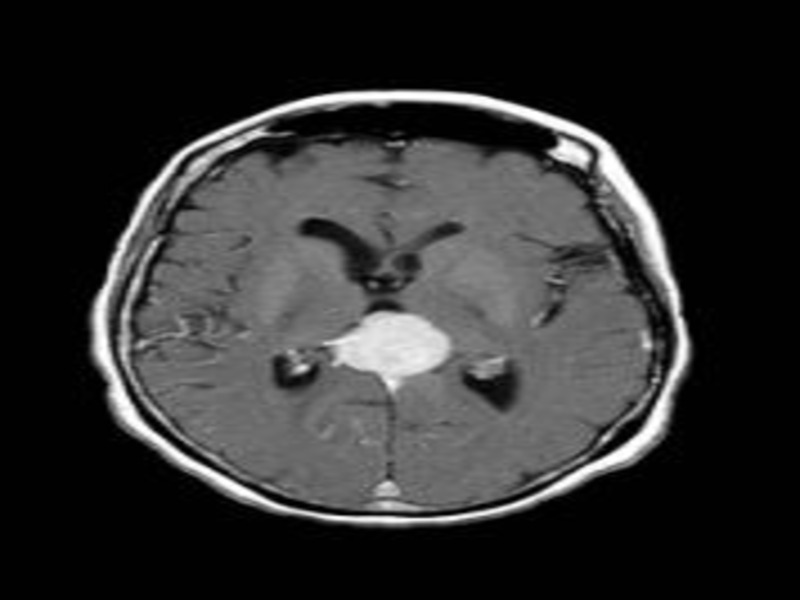tumor: (322, 301, 466, 409)
